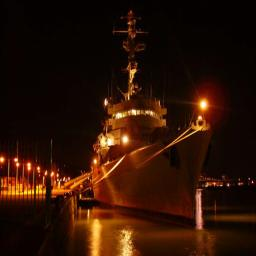Portanaves: (68, 2, 221, 230)
